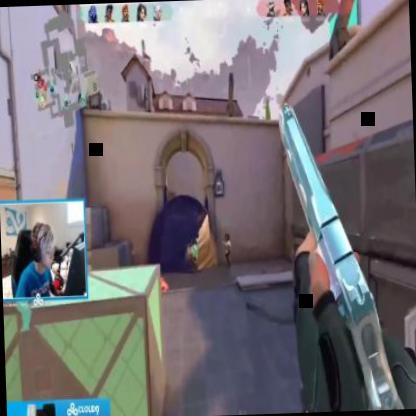enemy: (222, 234, 232, 269), (188, 238, 198, 271)
enemy_head: (190, 239, 195, 246), (225, 236, 229, 244)
